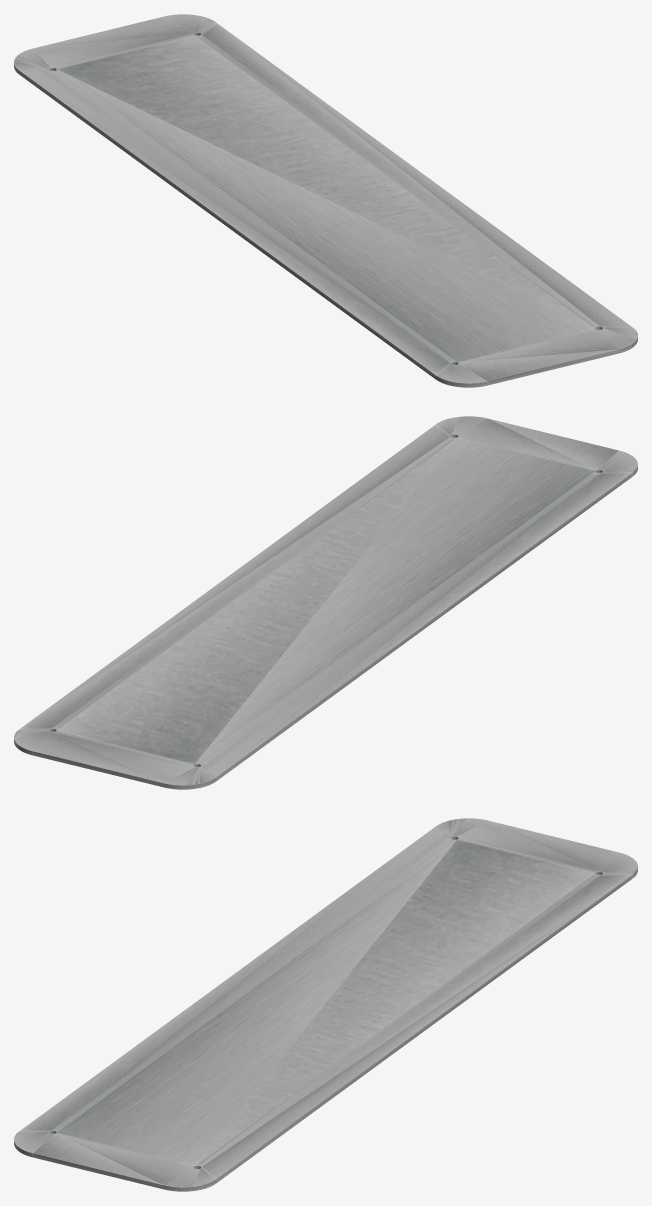
File: plateforme3.dae
3 views of the same model, one above another, from view 1: azimuth 30°, elevation 25°; view 2: azimuth 150°, elevation 25°; view 3: azimuth 330°, elevation 25° (orthographic).
Parts seen in each view (by area): view 1: Plateforme3; view 2: Plateforme3; view 3: Plateforme3.
Part boxes in pixels (<box>): Plateforme3: <box>14,14,637,387</box>; Plateforme3: <box>14,416,637,789</box>; Plateforme3: <box>14,818,637,1191</box>.
Size of the model in its own units: 0.15 by 0.6 by 0.003.
1 material, 1 textured.
